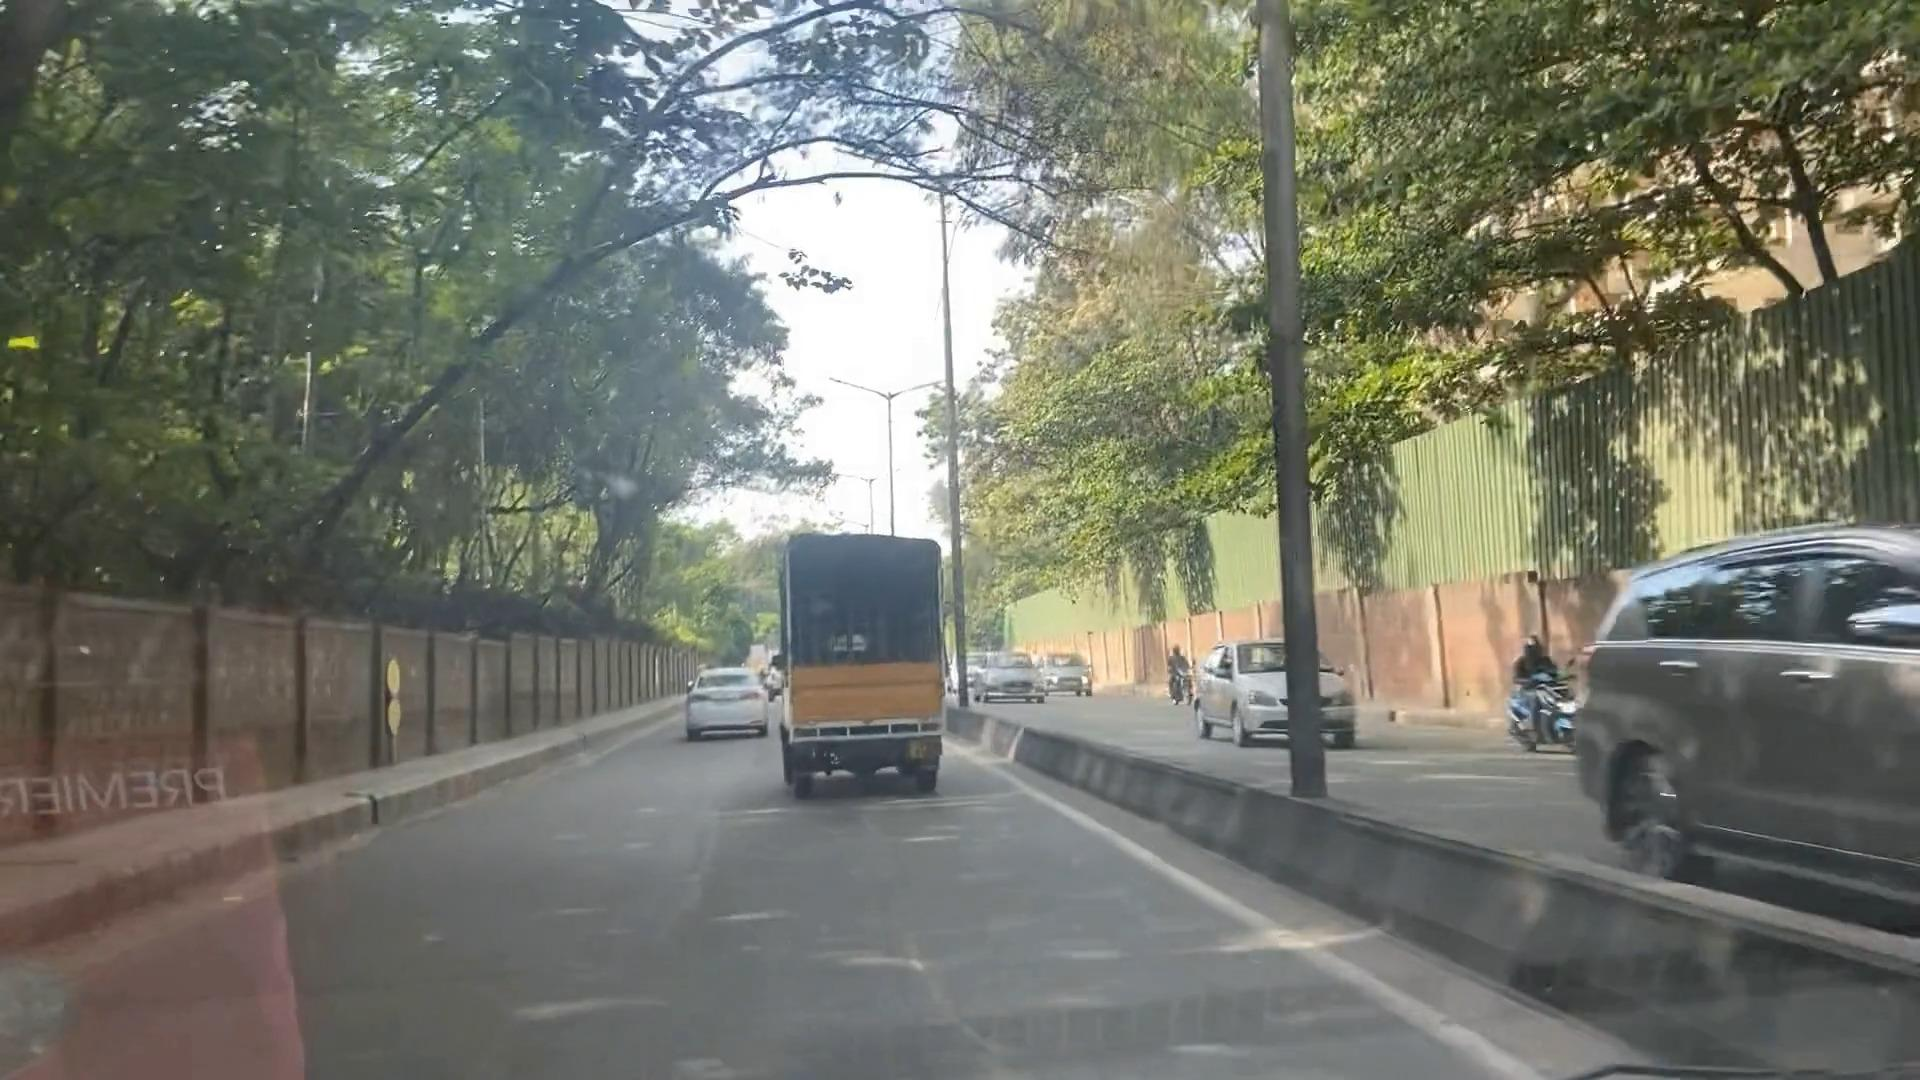HMV: (764, 512, 971, 830)
